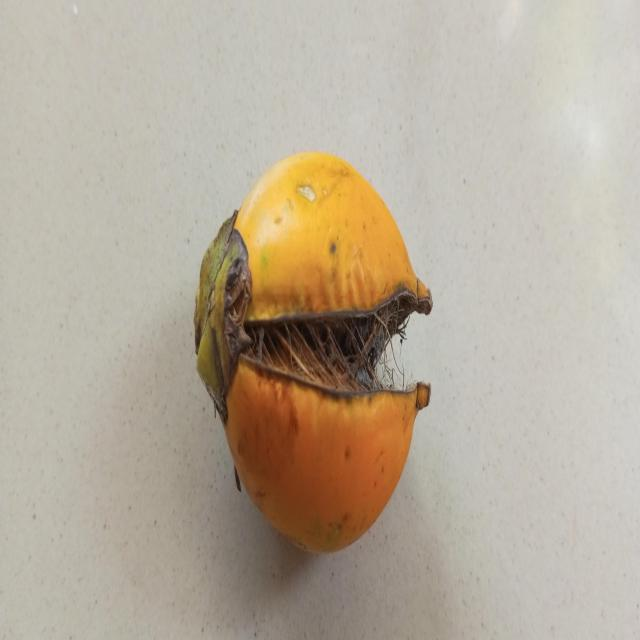damaged: (194, 152, 433, 555)
